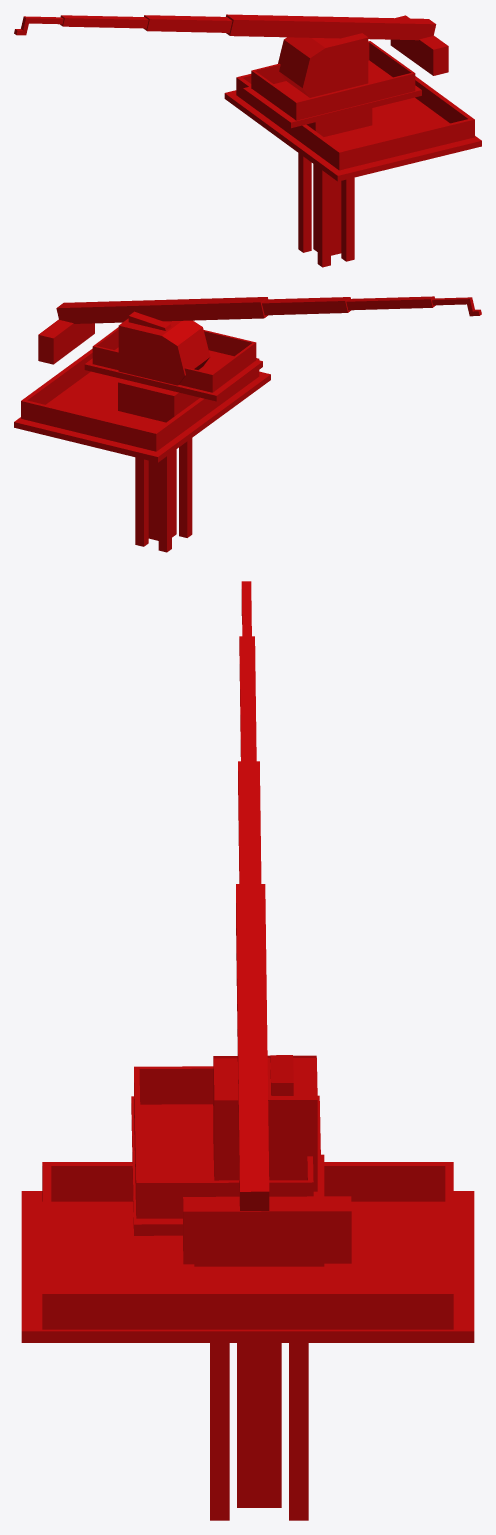
Rendered from crane.obj.
3 views of the same model, one above another, from view 1: azimuth 30°, elevation 25°; view 2: azimuth 150°, elevation 25°; view 3: azimuth 270°, elevation 25° (orthographic). The views are drawn at different scales.
Visible parts, largest first — view 1: Cube; view 2: Cube; view 3: Cube.
Boxes of the visible parts, bbox=[...] form: Cube: bbox=[14, 14, 481, 267]; Cube: bbox=[14, 296, 481, 552]; Cube: bbox=[21, 581, 474, 1520].
Size of the model in its own units: 11.5 by 8.22 by 5.38.
1 material, 1 textured.
